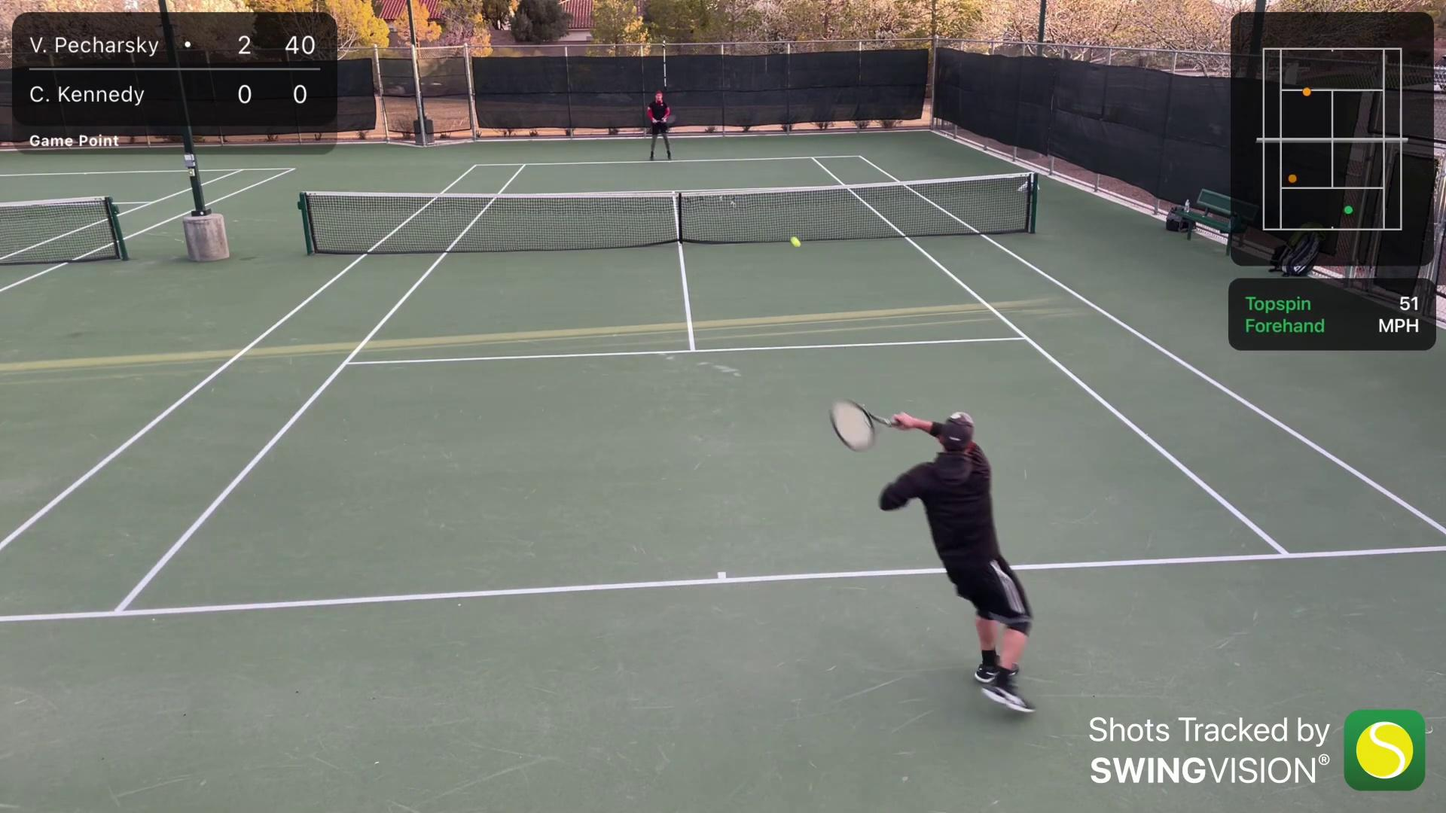ball: (789, 235, 805, 249)
